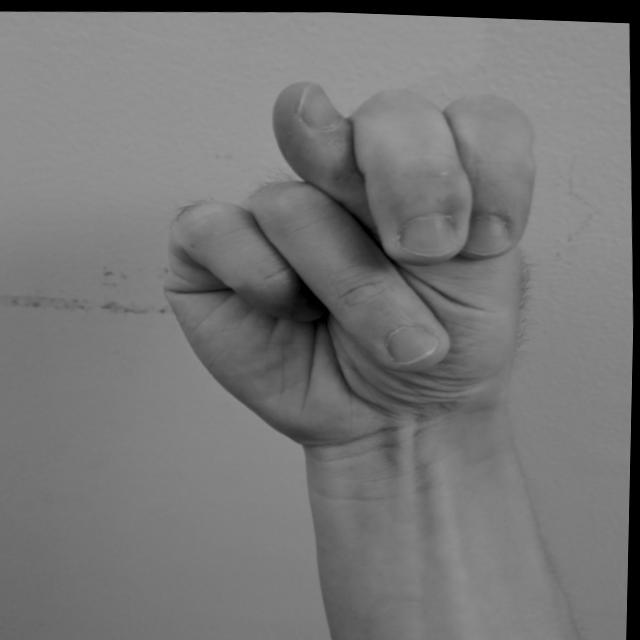N: (146, 56, 557, 462)
